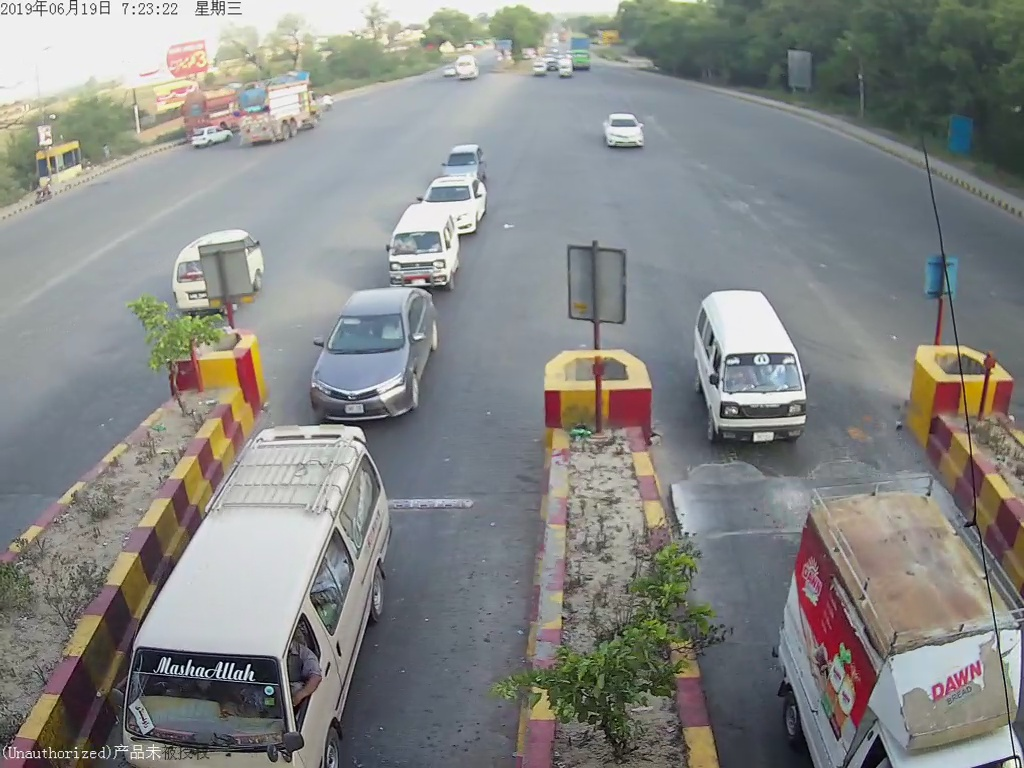Cat-1: (776, 490, 1024, 766), (690, 295, 821, 453), (305, 288, 446, 417), (383, 205, 457, 278)
Cat-2: (126, 426, 398, 763)
